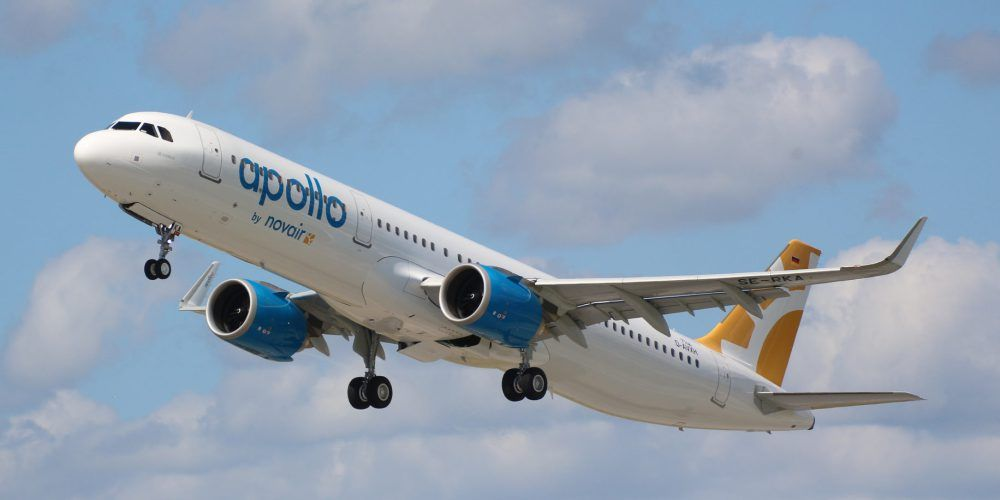Aeronef_commercial: (68, 97, 932, 440)
